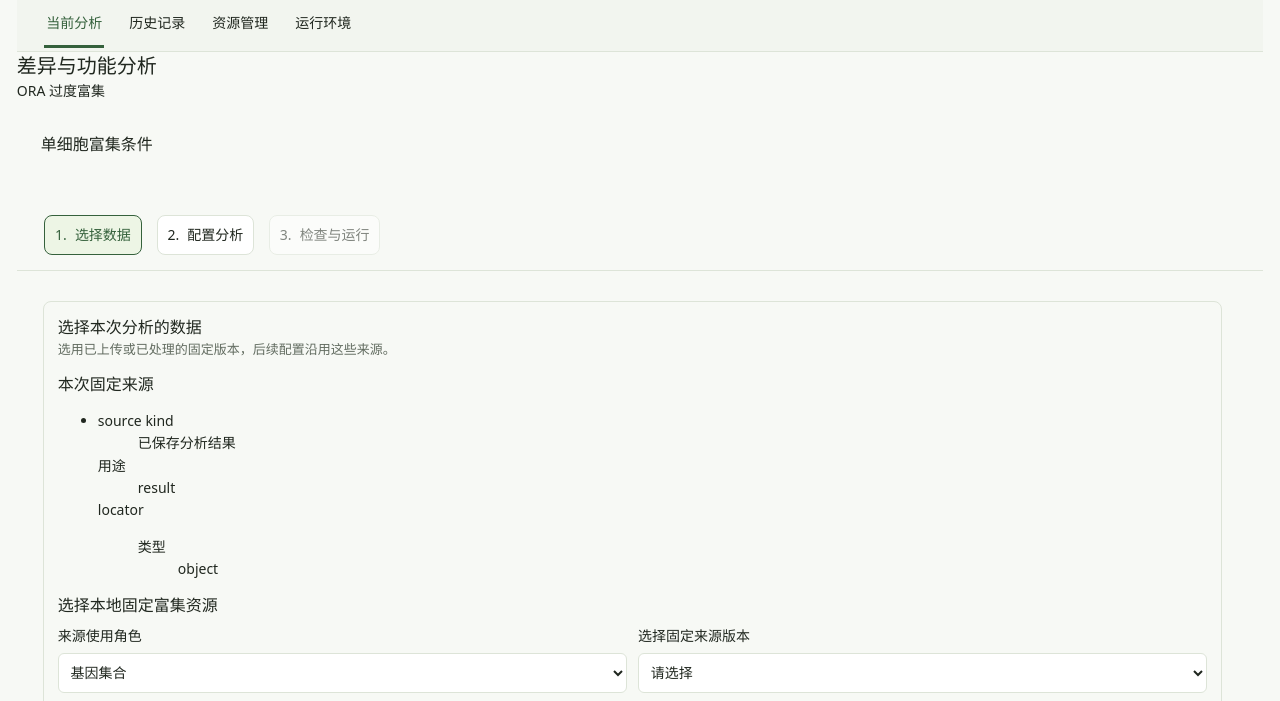
Test: requires a published gene-set resource and explicit preflight for scoped ORA
Expected: the heading "选择本地固定富集资源" is shown, top-left (58, 594), bottom-right (218, 616)
Expected: the button "3. 检查与运行" is disabled, top-left (269, 215), bottom-right (380, 255)
Select "Gene sets · 2026-01" in the dropdown labelled "选择固定来源版本": (923, 672) top-left (638, 652), bottom-right (1207, 692)
(page scrolled)
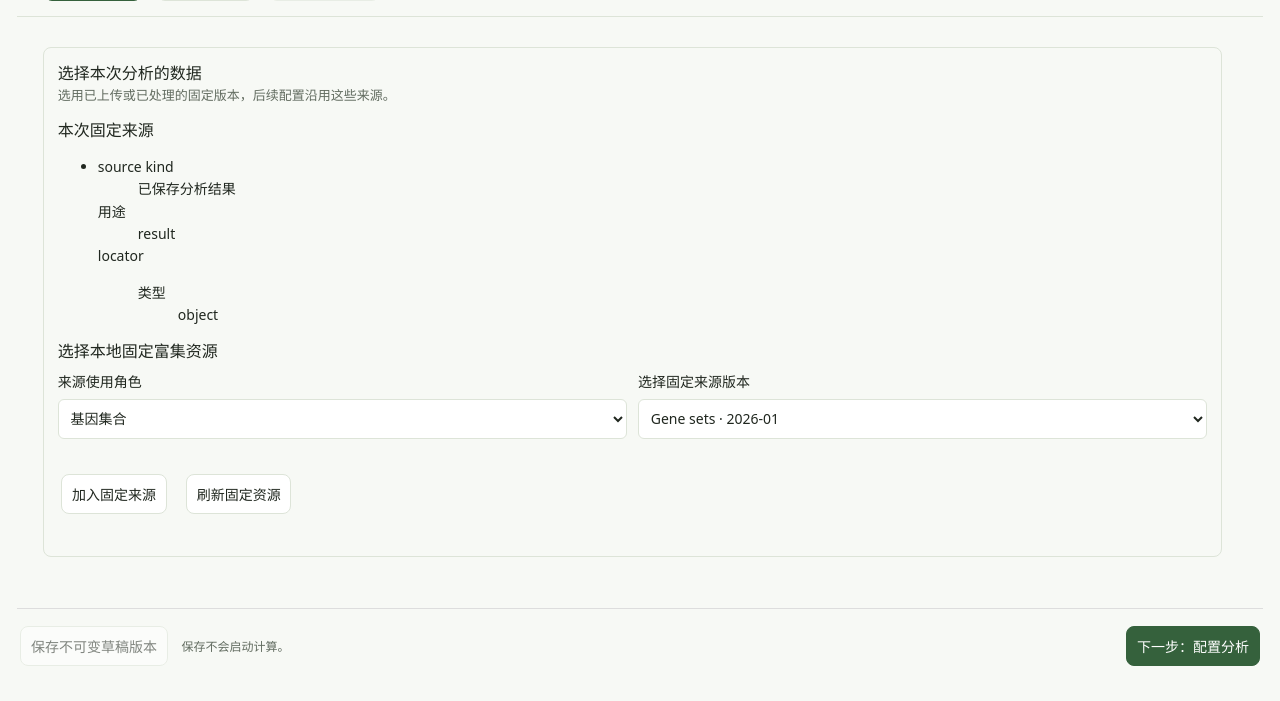
Click the button "加入固定来源": (114, 494) top-left (61, 474), bottom-right (167, 514)
(page scrolled)
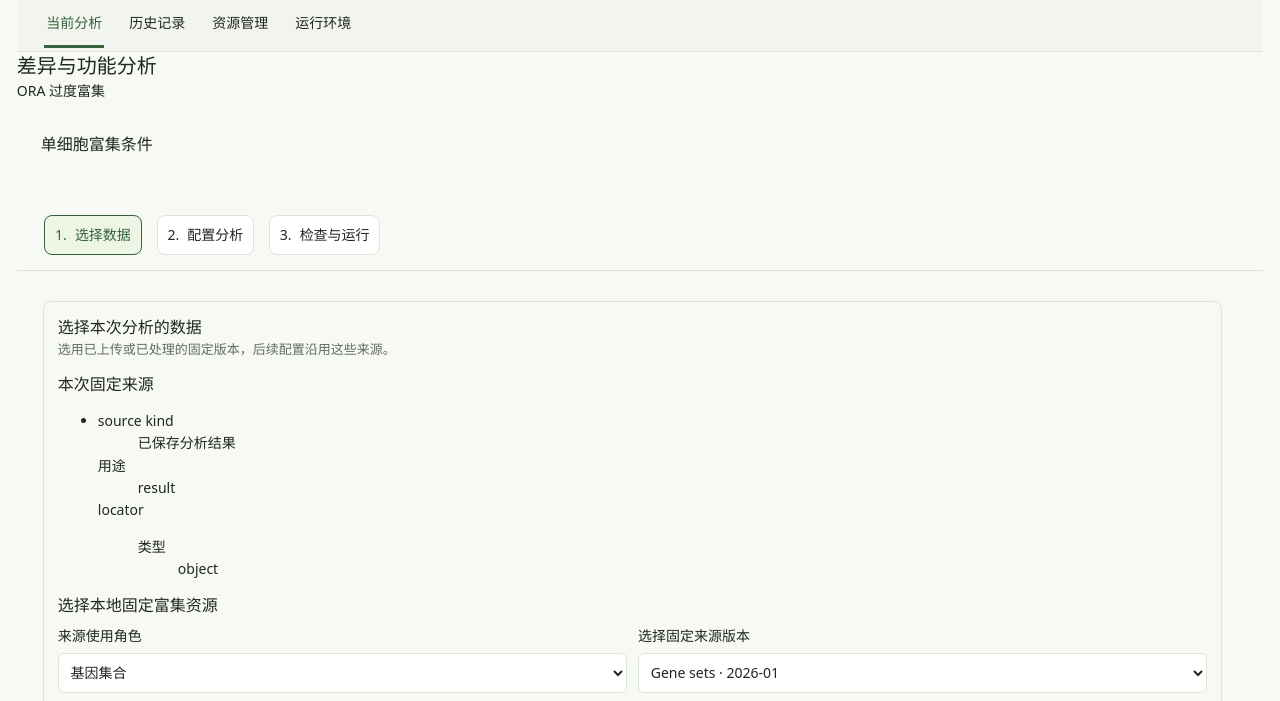
Click the button "3. 检查与运行": (325, 235) top-left (269, 215), bottom-right (380, 255)
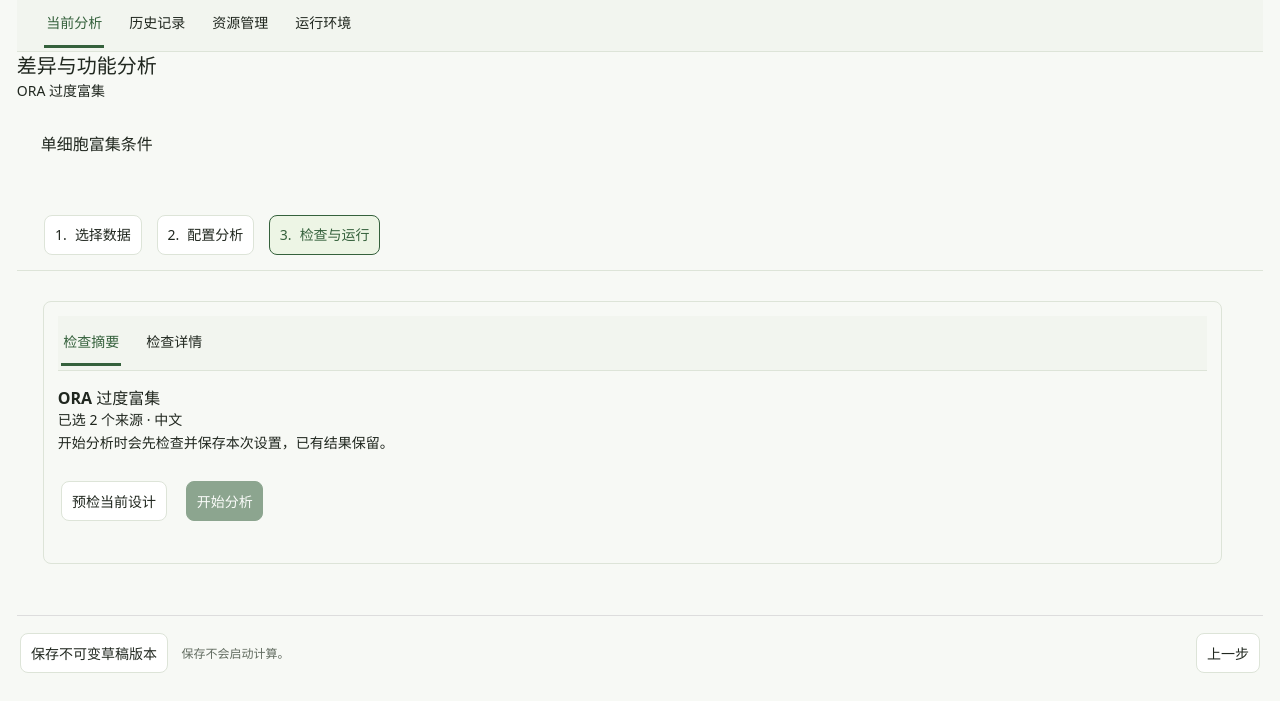
Expected: the button "开始分析" is disabled, top-left (186, 481), bottom-right (264, 521)
Click the button "预检当前设计": (114, 501) top-left (61, 481), bottom-right (167, 521)
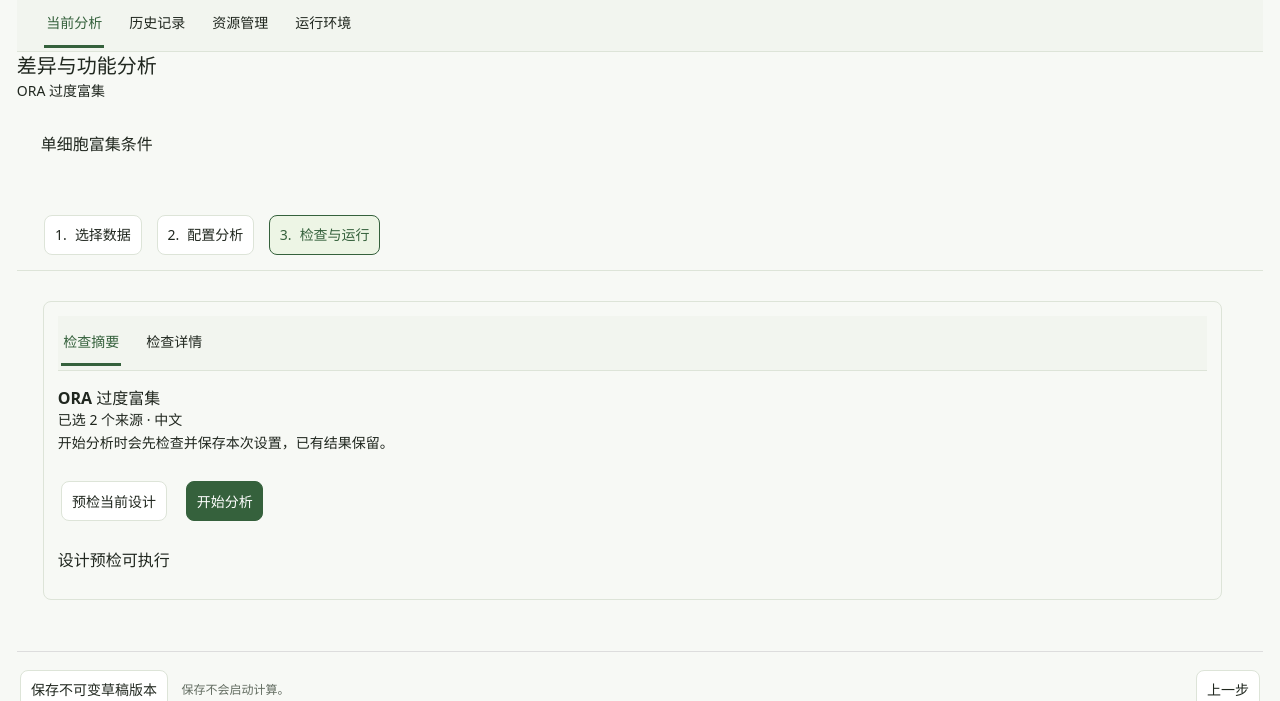
Expected: the heading "设计预检可执行" is shown, top-left (58, 549), bottom-right (170, 571)
Expected: the button "开始分析" is enabled, top-left (186, 481), bottom-right (264, 521)
